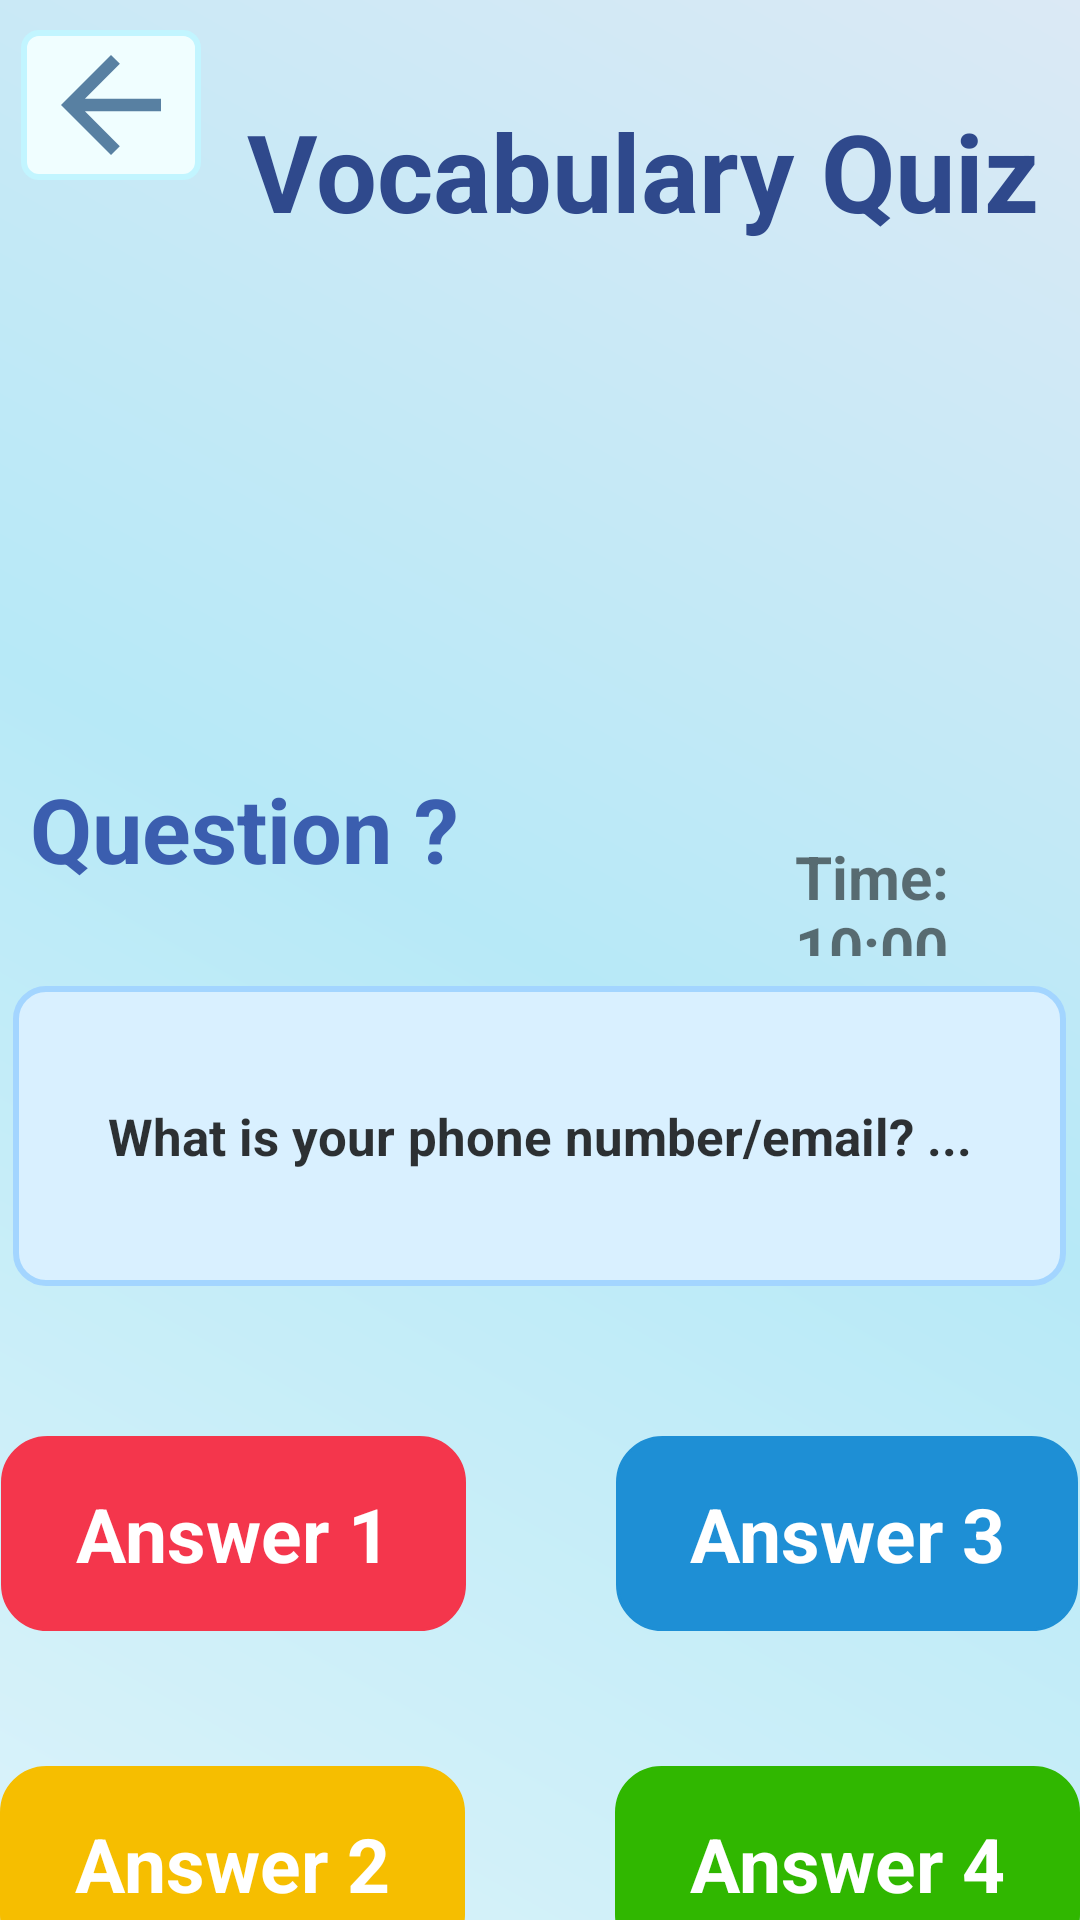

Icons on this 1080 x 1920 Android screen, each with its box as (x1, y1, x2, y2):
back: (27, 36, 195, 174)
